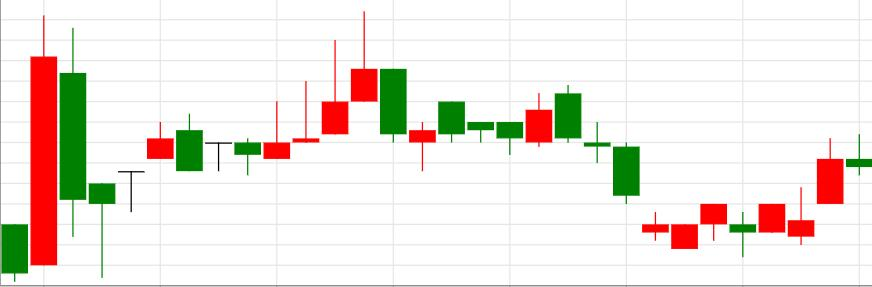shooting_star_fall: (88, 12, 379, 277)
